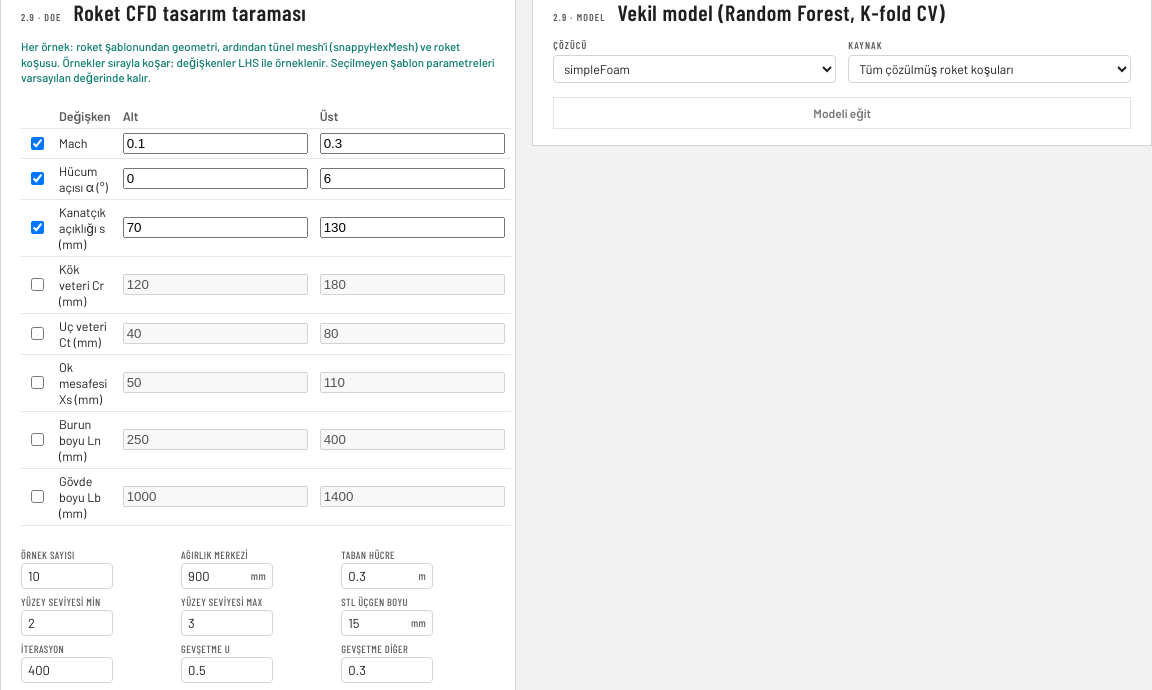
Test: CfdMlPanel (2.9) › DOE isteğini seçili değişken aralıkları ve çözücüyle kurar, örnekleri gösterir
Click the checkbox named "Tara alpha_deg": (38,178) 31,172 -> 44,185
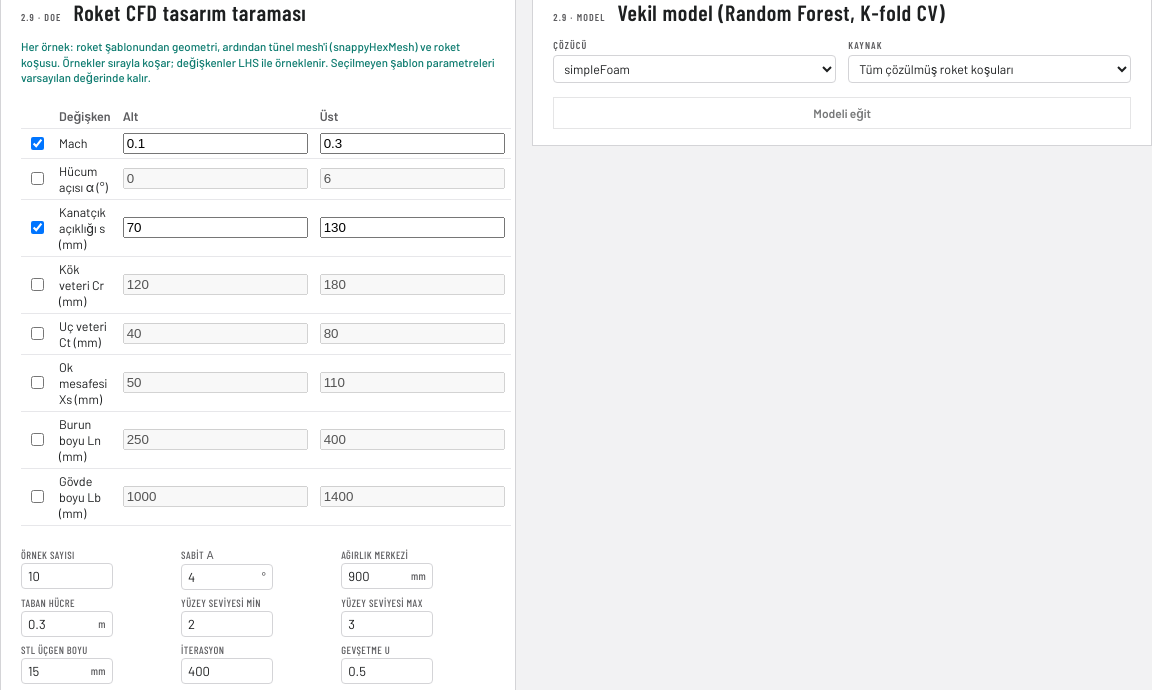
Replace the text in the field named "mach üst" with "0.6": (412,143) 320,132 -> 505,154
(page scrolled)
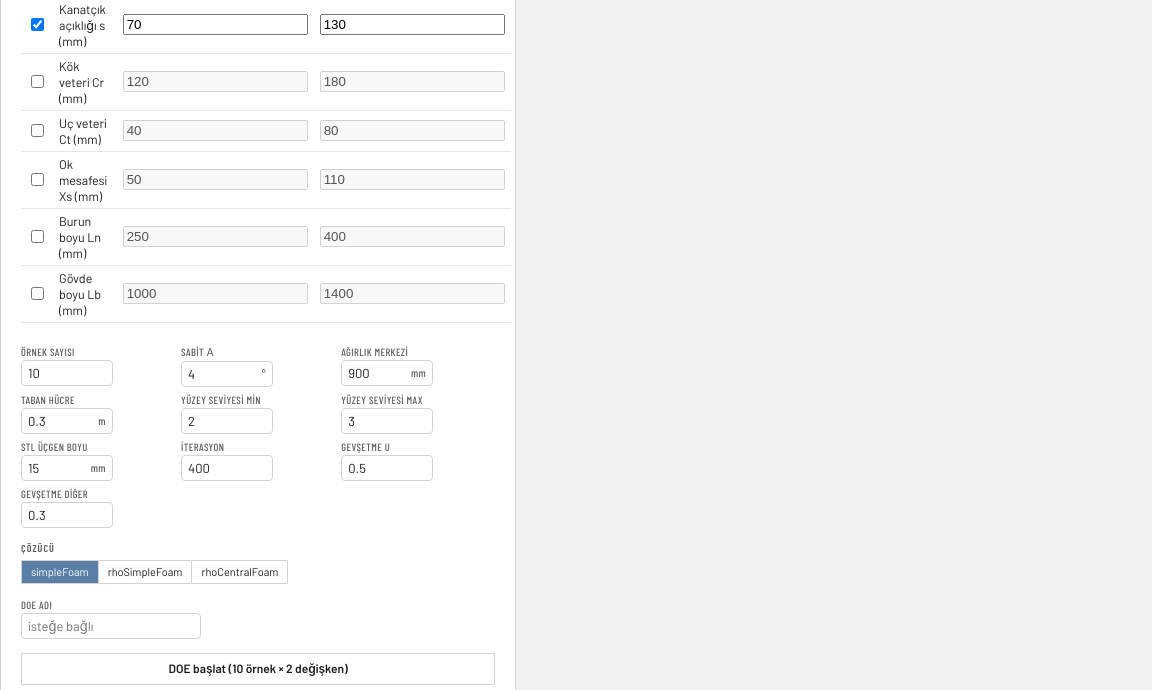
Click the button "rhoSimpleFoam": (145,572) 98,560 -> 191,582
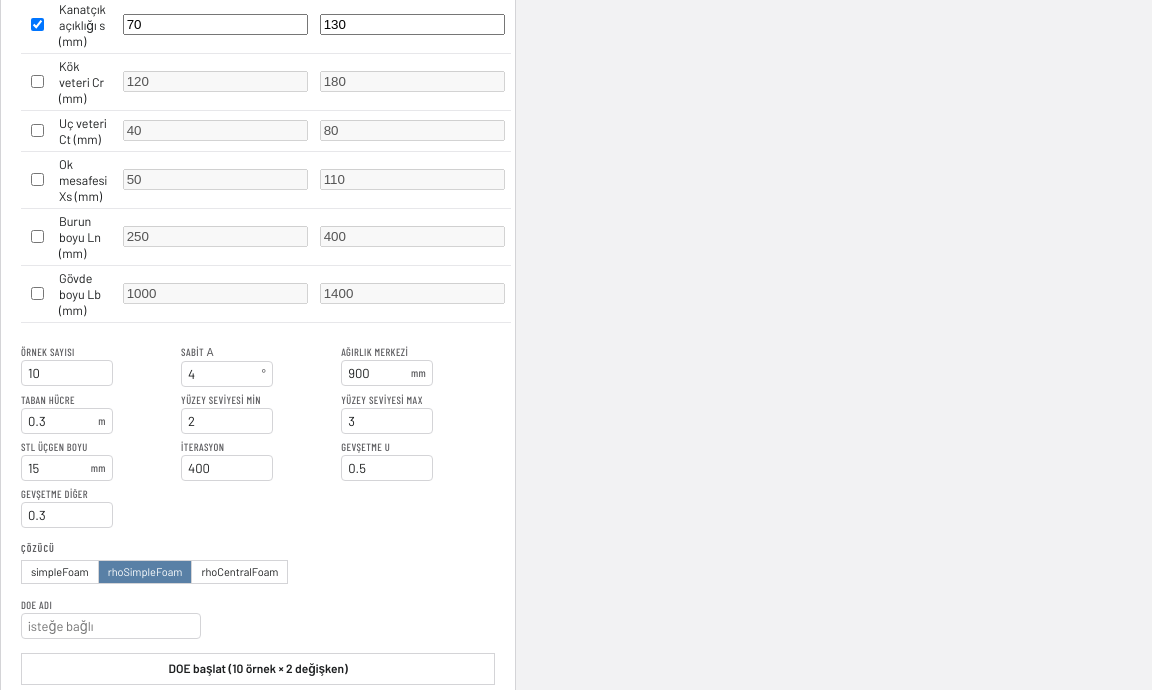
Click the button "DOE başlat (10 örnek × 2 değişken)": (258,668) 21,652 -> 495,684
(page scrolled)
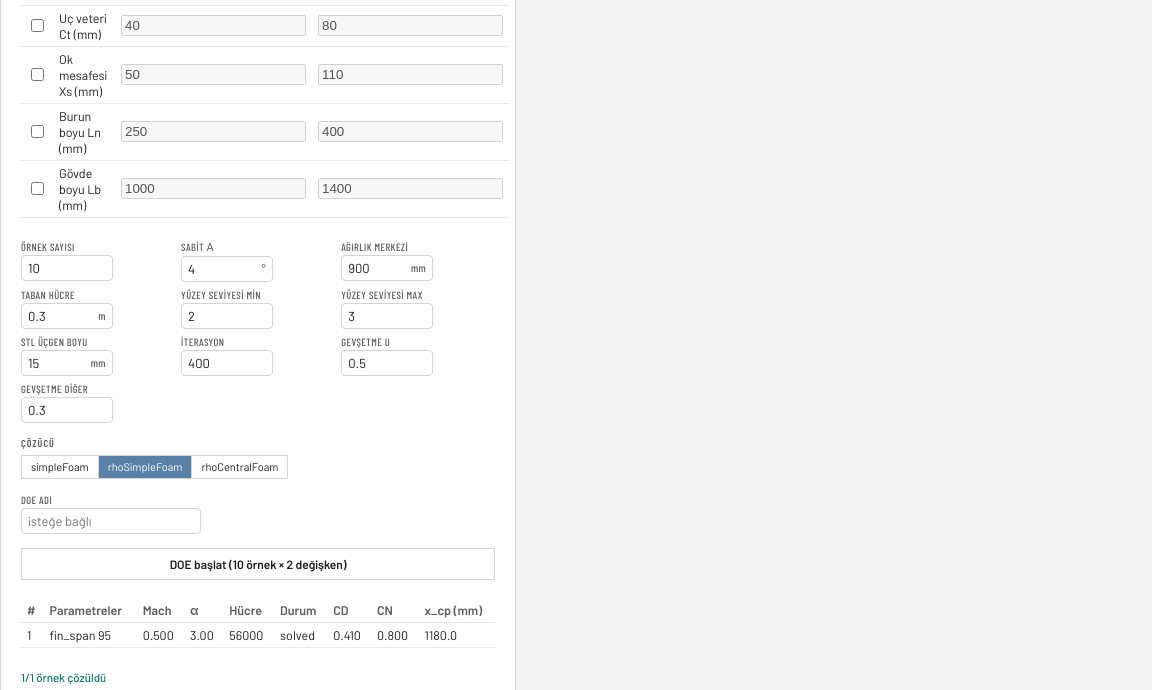
Expected: the text with test id "cfd-doe-status" shows "1/1", 21,670 -> 106,684
Expected: the table with test id "cfd-doe-samples" shows "fin_span 95", 50,626 -> 111,642
